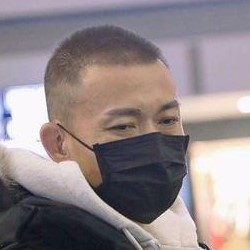mask: (55, 125, 191, 226)
